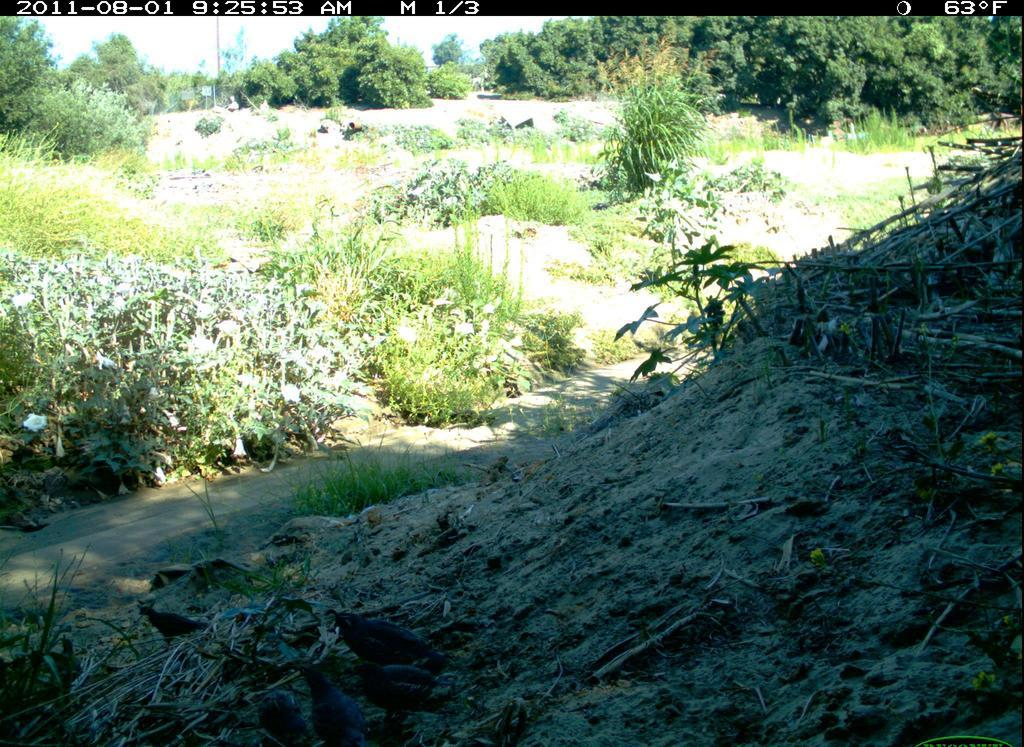bird: (323, 602, 454, 668), (297, 652, 385, 747), (350, 653, 447, 722), (136, 594, 213, 653), (250, 685, 313, 746), (52, 635, 86, 687)
